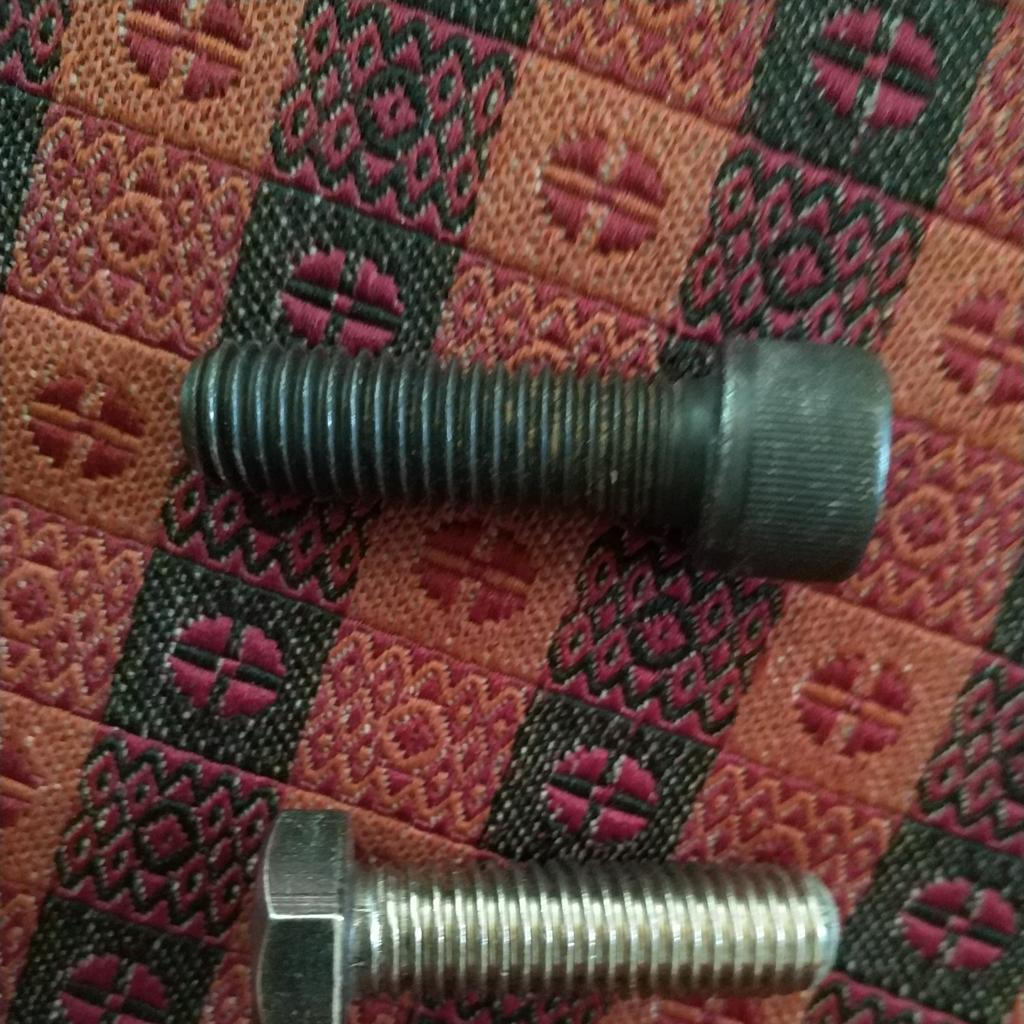screwtype1black: (174, 325, 893, 588)
screwtype2silver: (240, 804, 841, 1024)
